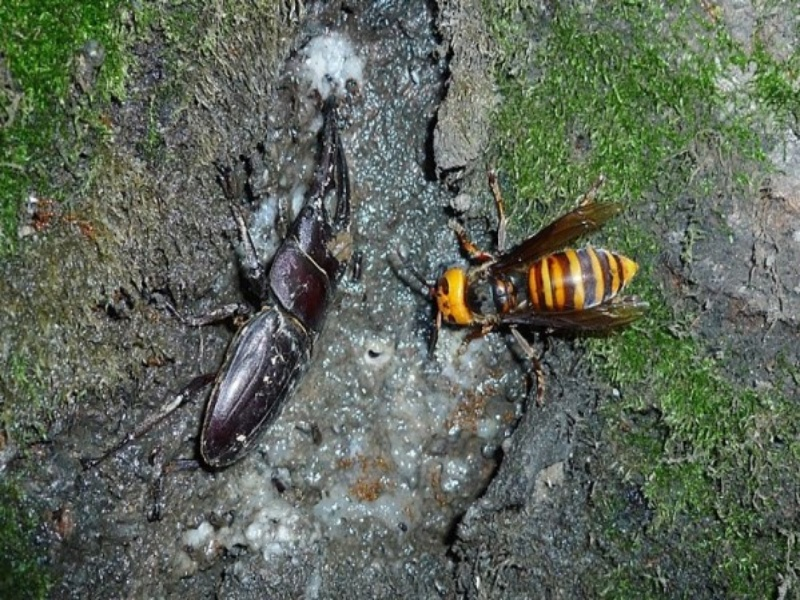asian_giant_hornet: (425, 234, 644, 339)
